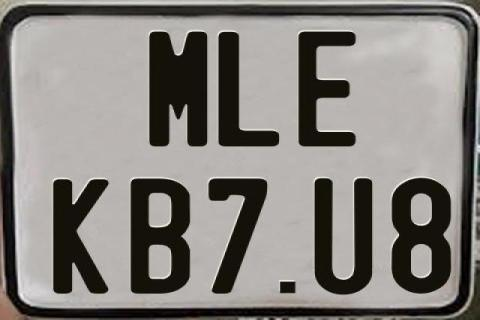0: (392, 177, 458, 296), (206, 176, 268, 294)
B: (129, 176, 193, 294)
E: (296, 31, 355, 148)
K: (53, 177, 110, 295)
L: (215, 32, 281, 147)
M: (148, 29, 210, 147)
U: (312, 176, 374, 296)
